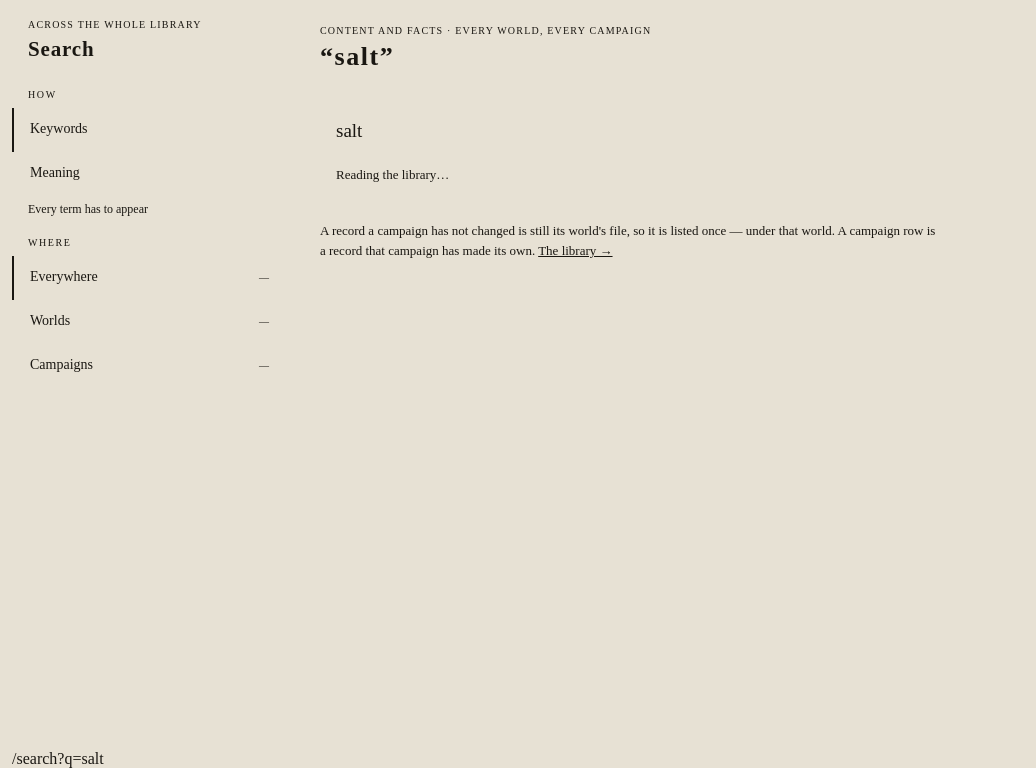
Test case: typing away and back while a sweep is out keeps its answer
The width and height of the screenshot is (1036, 768).
Replace the text in the search field named "search the library" with "salty" at (661, 131), box [320,105,1002,157]
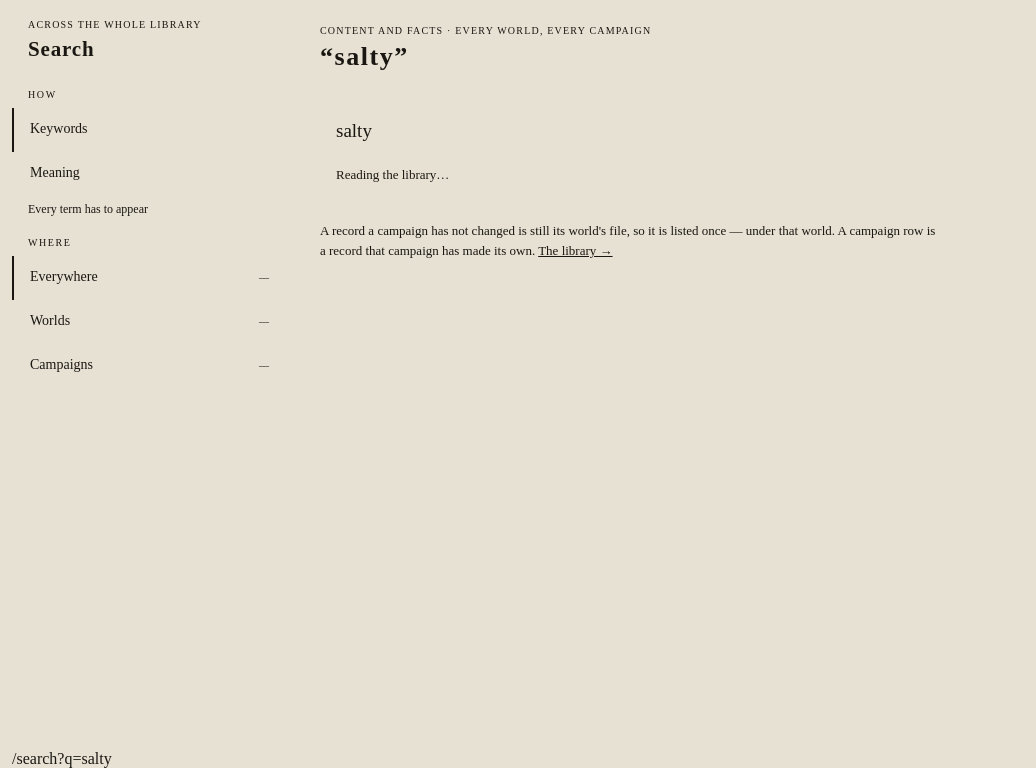
Now the text with test id "where" shows "q=salty", box [12,750,112,767]
Replace the text in the search field named "search the library" with "salt" at (661, 131), box [320,105,1002,157]
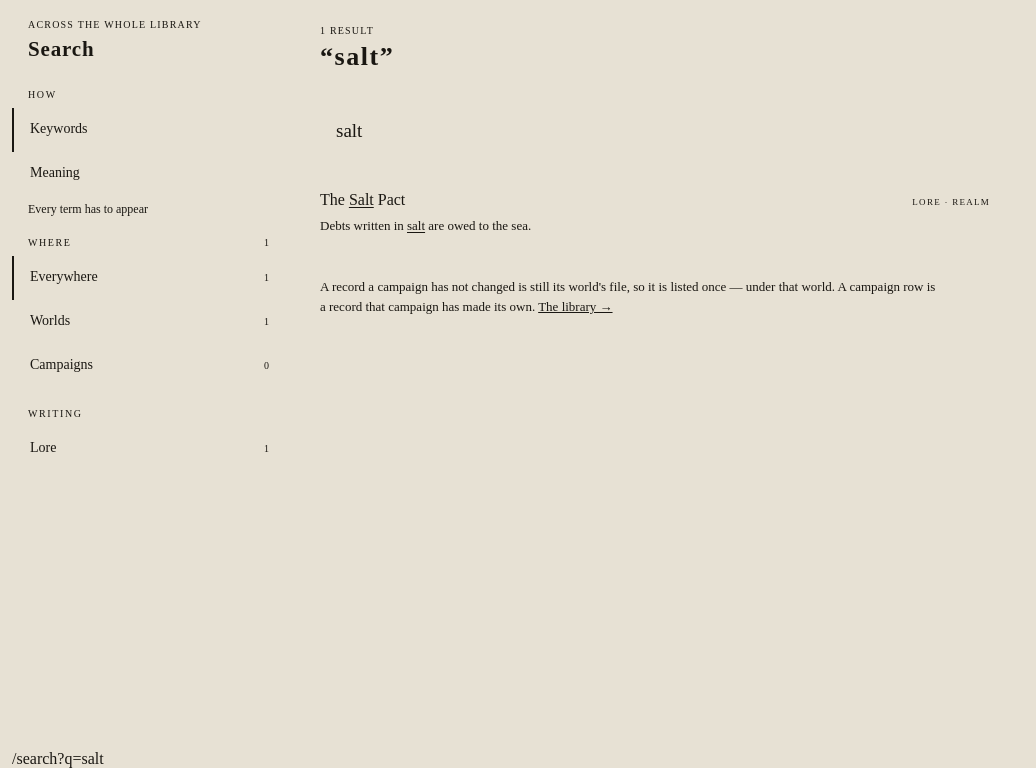
Expected: the text with test id "where" shows "q=salt", [12,750,104,767]
Now the link "The Salt Pact" is shown, box [320,191,990,234]
